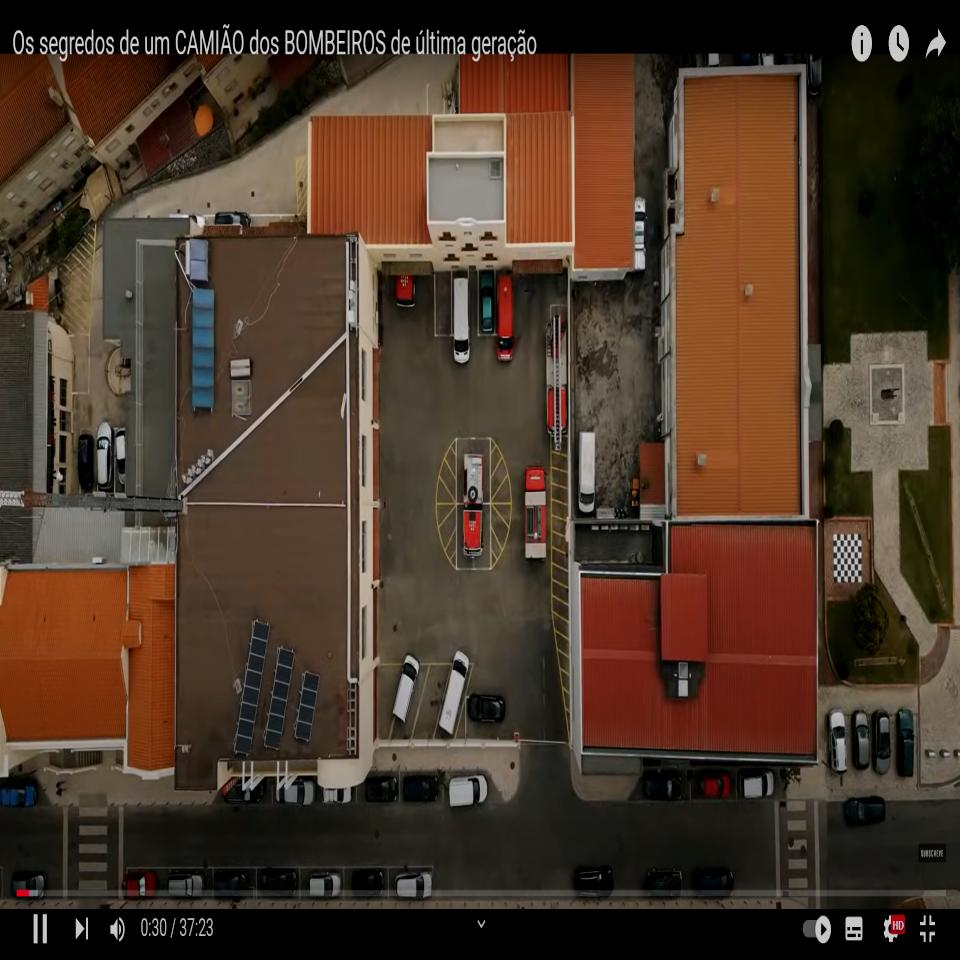bombeiro: (543, 312, 570, 450), (460, 450, 485, 560), (522, 463, 548, 566)
